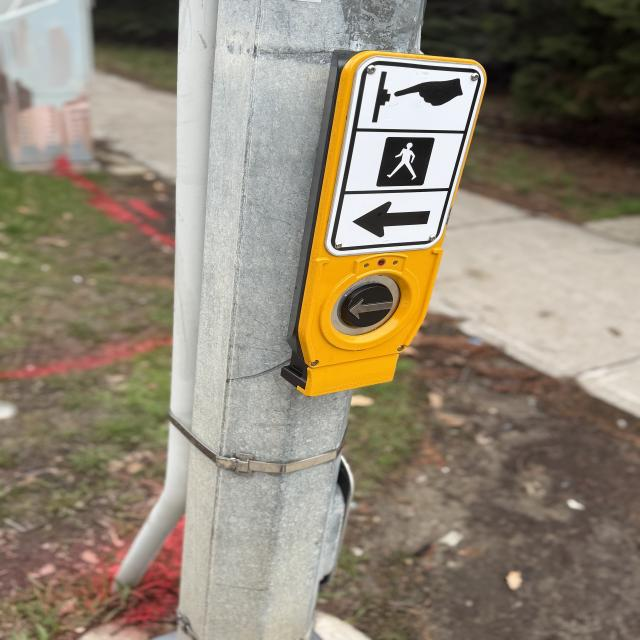Electrical Pole: (148, 4, 495, 640)
